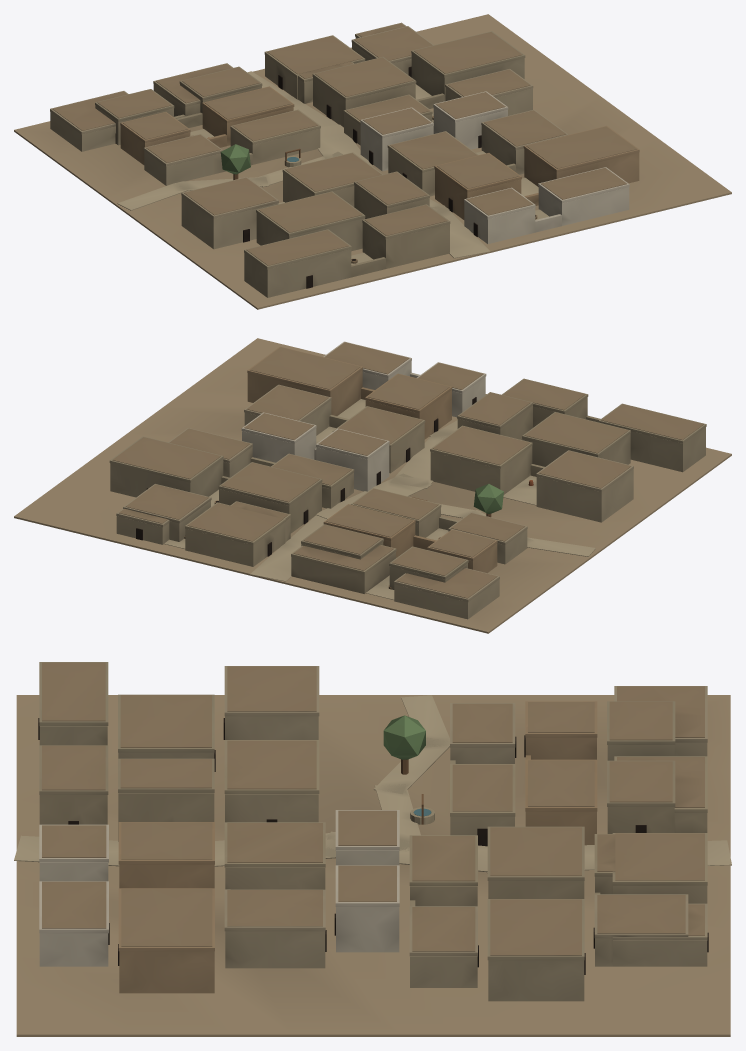
File: bhir-quarter.glb
3 renders of one model, top to bottom at view 1: azimuth 30°, elevation 25°; view 2: azimuth 150°, elevation 25°; view 3: azimuth 270°, elevation 25°, orthographic. The views are drawn at different scales.
Visible parts, largest first — view 1: p1_houses, p0_ground, p2_well; view 2: p1_houses, p0_ground, p2_well; view 3: p1_houses, p0_ground, p2_well.
Boxes of the visible parts, bbox=[...] form: p1_houses: bbox=[50, 22, 639, 297]; p0_ground: bbox=[14, 14, 731, 309]; p2_well: bbox=[174, 84, 561, 277]; p1_houses: bbox=[109, 341, 706, 619]; p0_ground: bbox=[14, 338, 731, 633]; p2_well: bbox=[164, 373, 600, 599]; p1_houses: bbox=[38, 662, 708, 1001]; p0_ground: bbox=[14, 695, 731, 1036]; p2_well: bbox=[225, 715, 600, 906].
Size of the model in its own units: 90 by 7.58 by 80.44.
